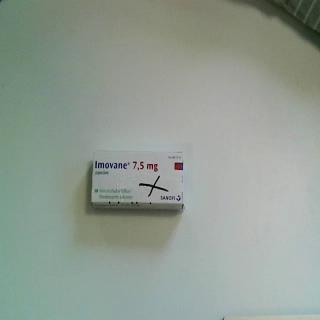imovane7-5mg: (90, 149, 187, 215)
